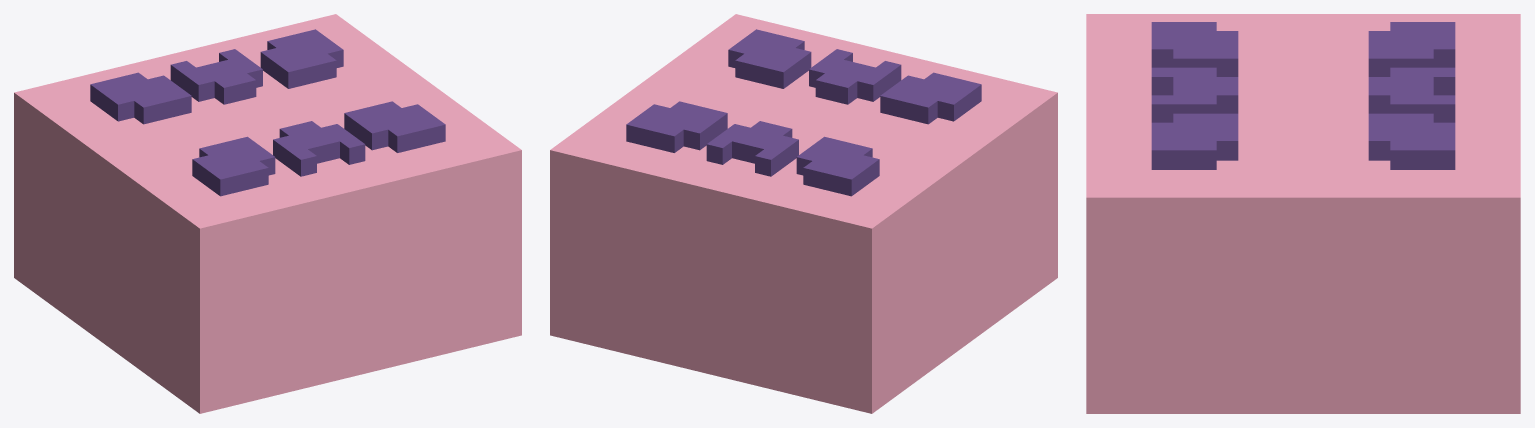
The model's file is GoalSix.obj.
3 views of the same model, side by side, from view 1: azimuth 30°, elevation 25°; view 2: azimuth 150°, elevation 25°; view 3: azimuth 270°, elevation 25° (orthographic). The views are drawn at different scales.
Bounding box in the file's own units: 2 × 1.2 × 2.
